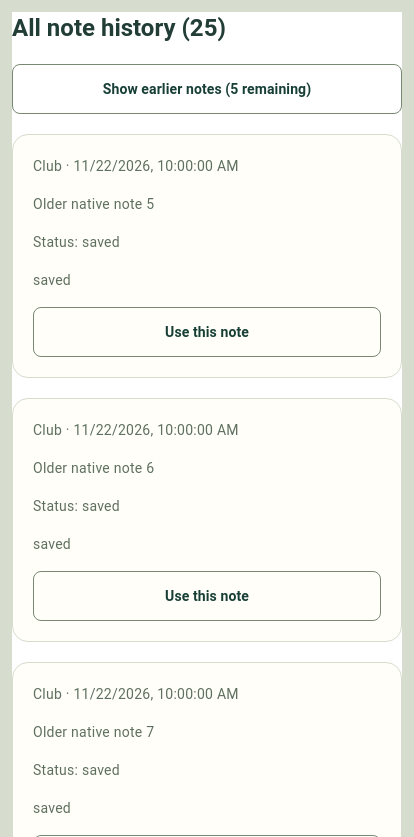
it: native history keeps older notes accessible beyond the old message cap
Check: the heading "All note history (25)" is shown, box [12, 14, 226, 42]
Check: the text "Older native note 0" is not shown
Click the button "Show earlier notes (5 remaining)" at (207,89), box [13, 65, 401, 113]
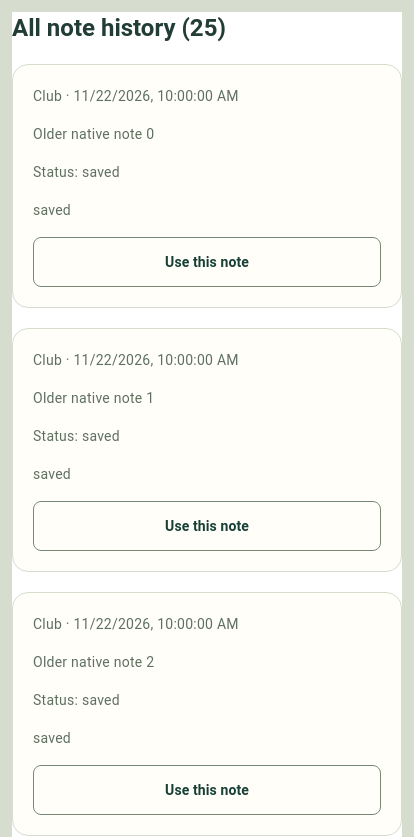
Check: the text "Older native note 0" is shown, box [33, 126, 154, 142]
